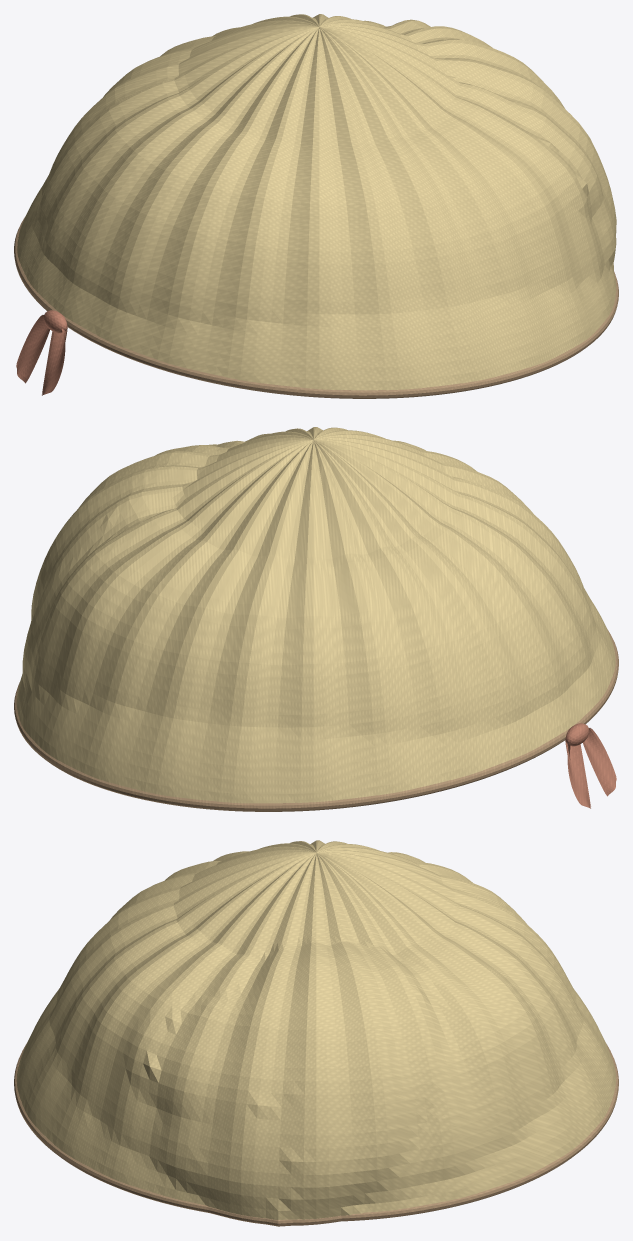
File: side_drummer_headcloth.glb
3 views of the same model, one above another, from view 1: azimuth 30°, elevation 25°; view 2: azimuth 150°, elevation 25°; view 3: azimuth 270°, elevation 25° (orthographic). The views are drawn at different scales.
Parts seen in each view (by area): view 1: golden_reed, reed_binding, russet_tie; view 2: golden_reed, reed_binding, russet_tie; view 3: golden_reed, reed_binding.
Part boxes in pixels (box(x1,y1,x2,y2)): golden_reed: box(17, 14, 616, 390); reed_binding: box(14, 216, 618, 398); russet_tie: box(16, 310, 67, 395); golden_reed: box(16, 427, 615, 803); reed_binding: box(14, 629, 618, 811); russet_tie: box(565, 723, 616, 808); golden_reed: box(16, 840, 616, 1219); reed_binding: box(14, 1043, 618, 1226).
Bounding box in the file's own units: 20.24 × 10.2 × 20.
Materials: 3 (3 with a texture image).
